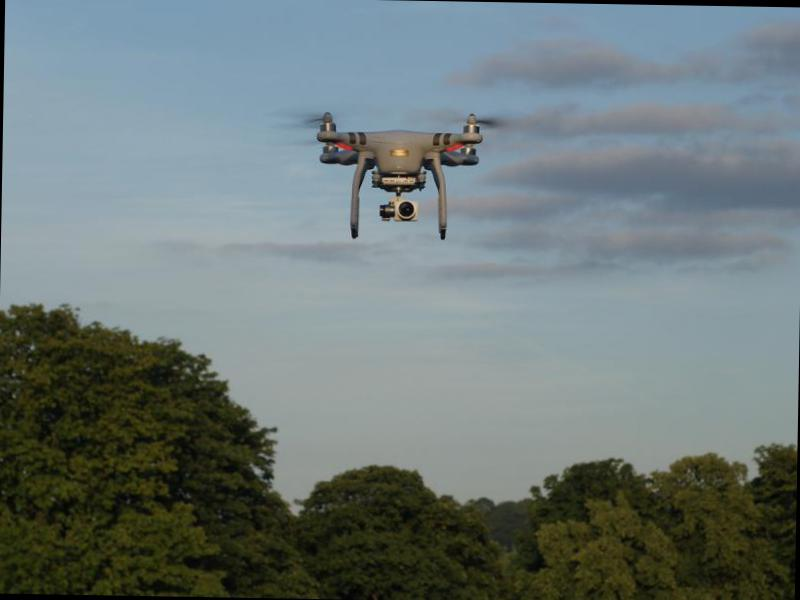drone: (297, 107, 491, 241)
